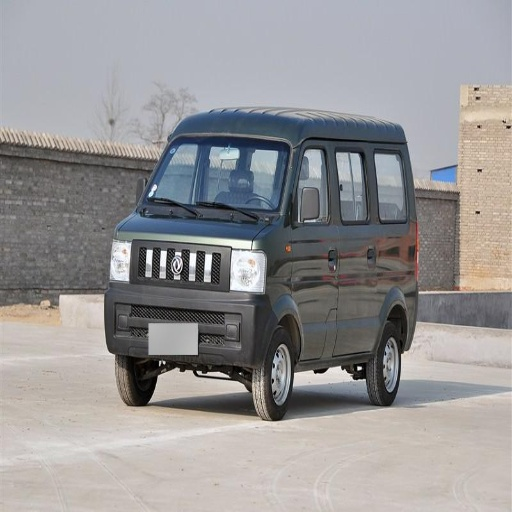back_glass: (169, 137, 292, 200)
front_bumper: (107, 264, 255, 359)
front_left_door: (302, 272, 338, 356)
tailgate: (115, 230, 219, 283)
trunk: (366, 226, 415, 314)
